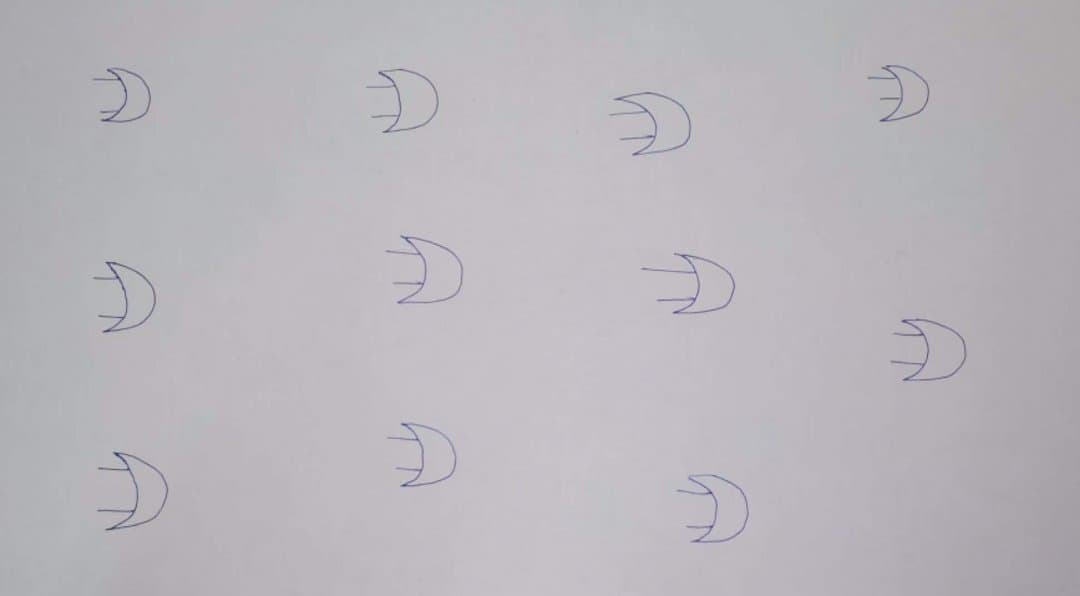or: (873, 305, 976, 394), (92, 443, 180, 544), (643, 245, 751, 321), (605, 90, 699, 165), (389, 228, 470, 314), (359, 61, 444, 141), (678, 472, 757, 555), (389, 415, 459, 495), (84, 56, 156, 130), (863, 60, 935, 129)
